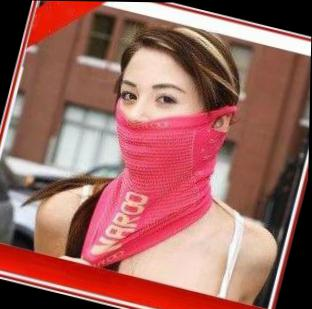WRONG: (98, 67, 211, 191)
